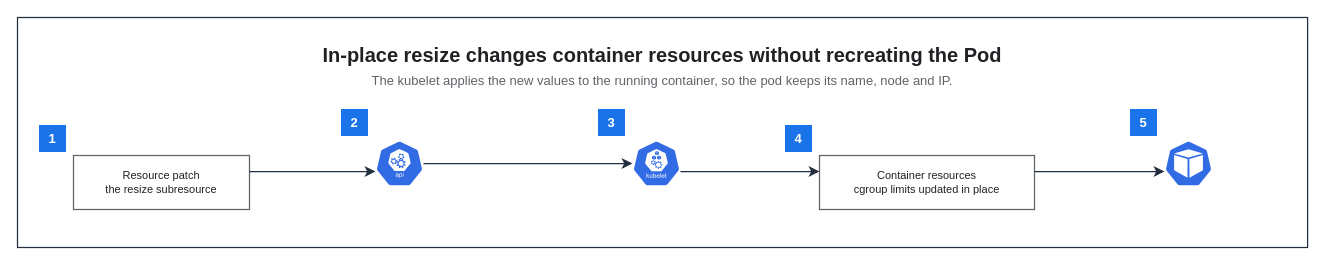
Image size: 1326x266. Some labels were removed from this diagram. The shapes that lost their labels are listed below. From the top down, each one's centre as x and y in pixels, then its label:
the point at 399,163: API server validates the resize policy
the point at 656,163: kubelet actuates the change on the node
the point at 1188,163: Pod keeps running no restart and no reschedule
